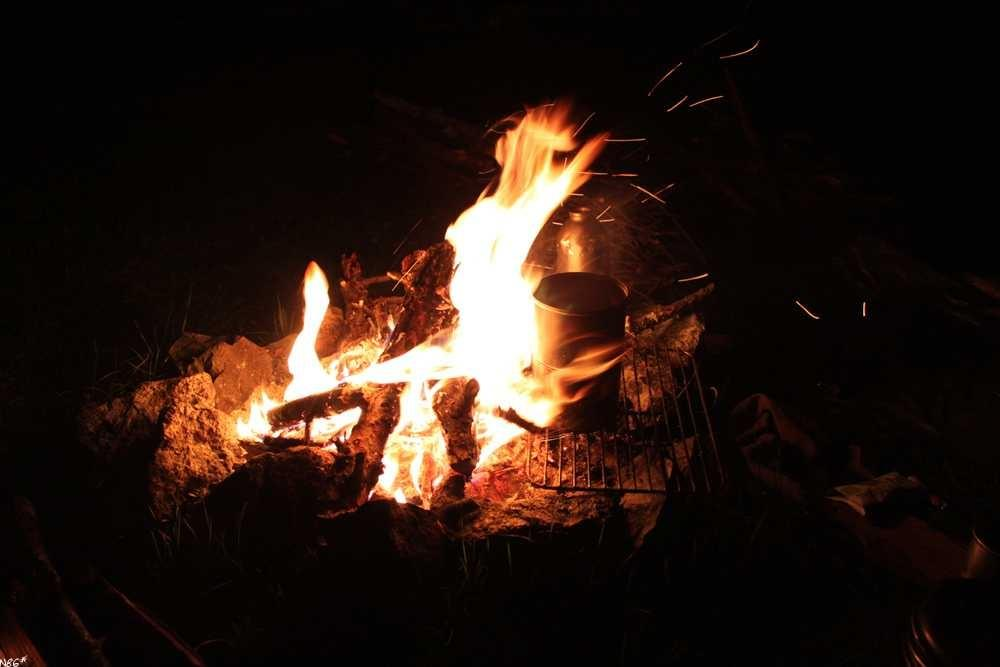fire: (277, 110, 593, 466)
